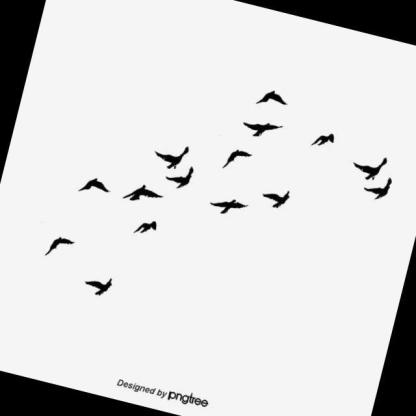bird: (150, 137, 194, 176), (347, 146, 391, 185), (120, 179, 166, 210), (239, 115, 284, 145), (219, 141, 256, 176), (162, 161, 200, 195), (207, 191, 250, 221), (362, 172, 396, 205), (256, 184, 294, 213), (75, 172, 114, 200), (81, 270, 117, 300), (42, 232, 76, 263), (254, 86, 291, 112), (308, 127, 339, 153), (132, 215, 160, 241)
